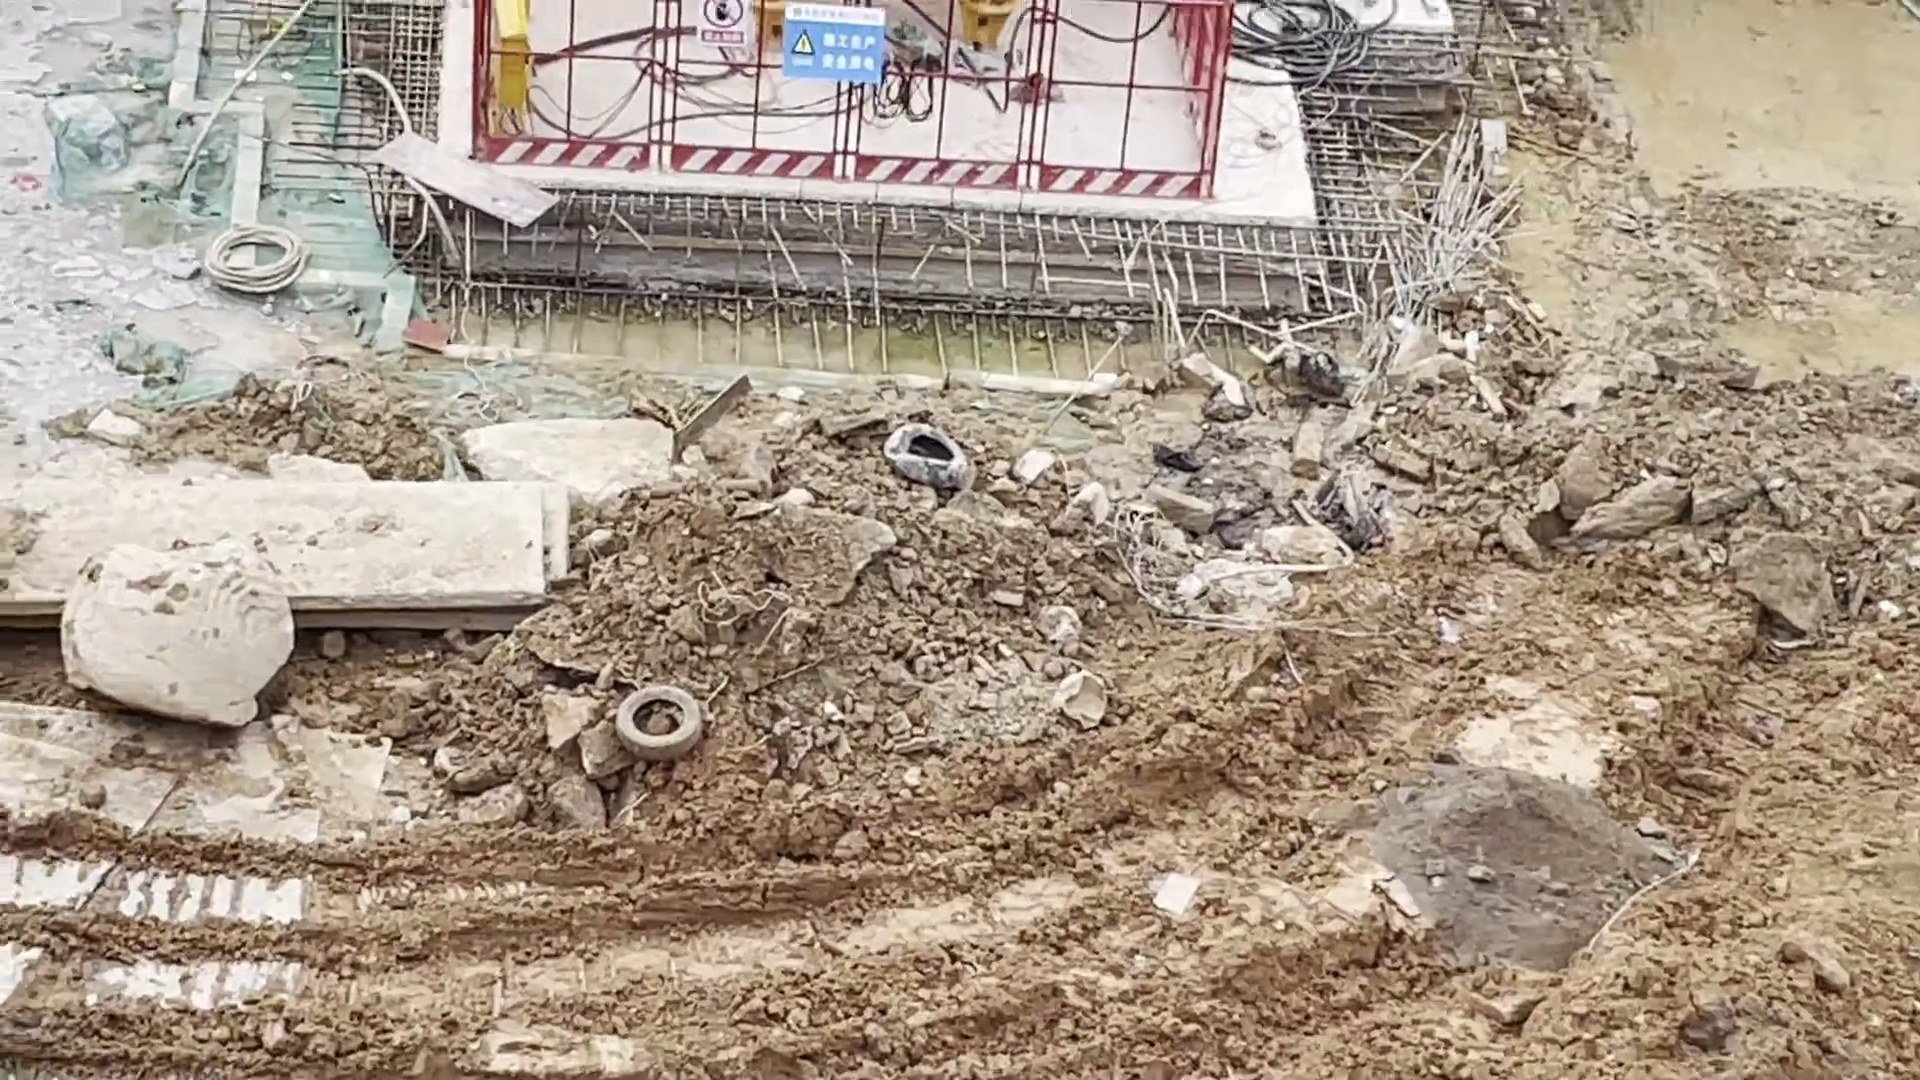ebox: (487, 3, 527, 135)
fence: (481, 3, 1225, 198)
slogan: (785, 7, 881, 76), (696, 1, 745, 49)
